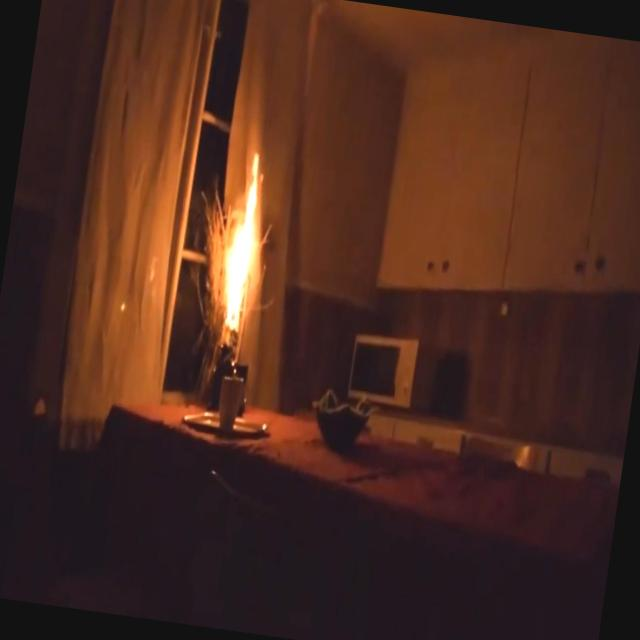fire: (176, 112, 307, 379)
